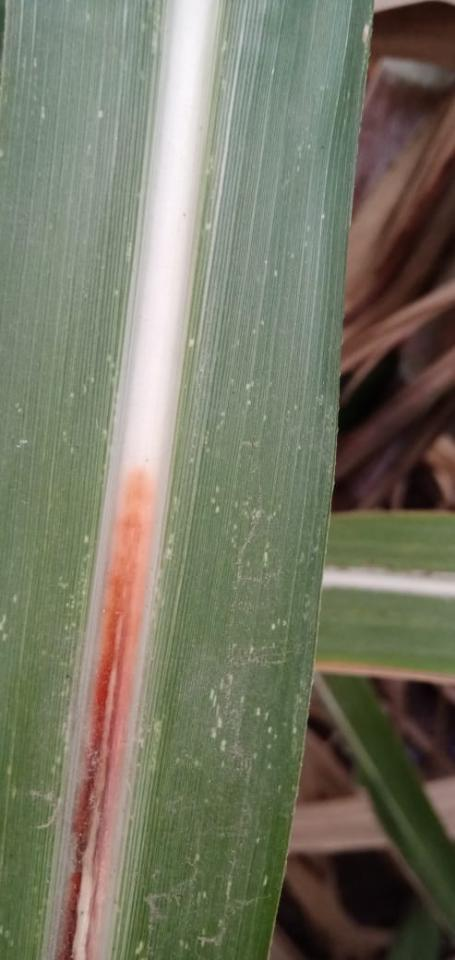RedRot: (48, 463, 155, 959)
